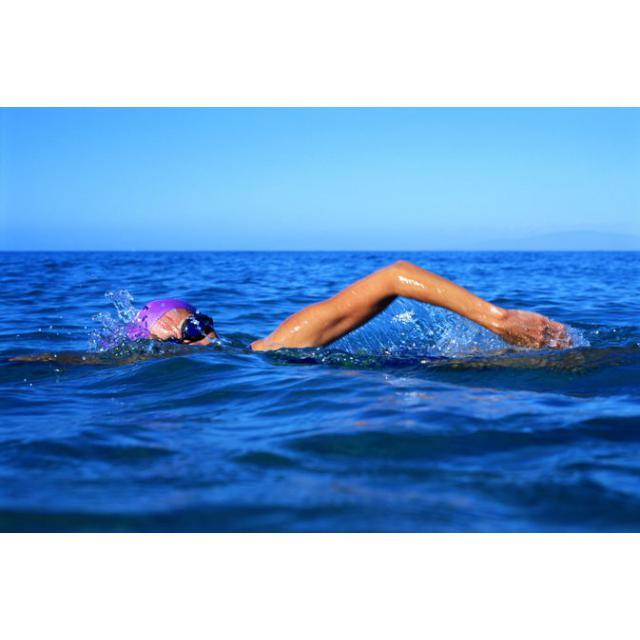human: (126, 255, 581, 365)
